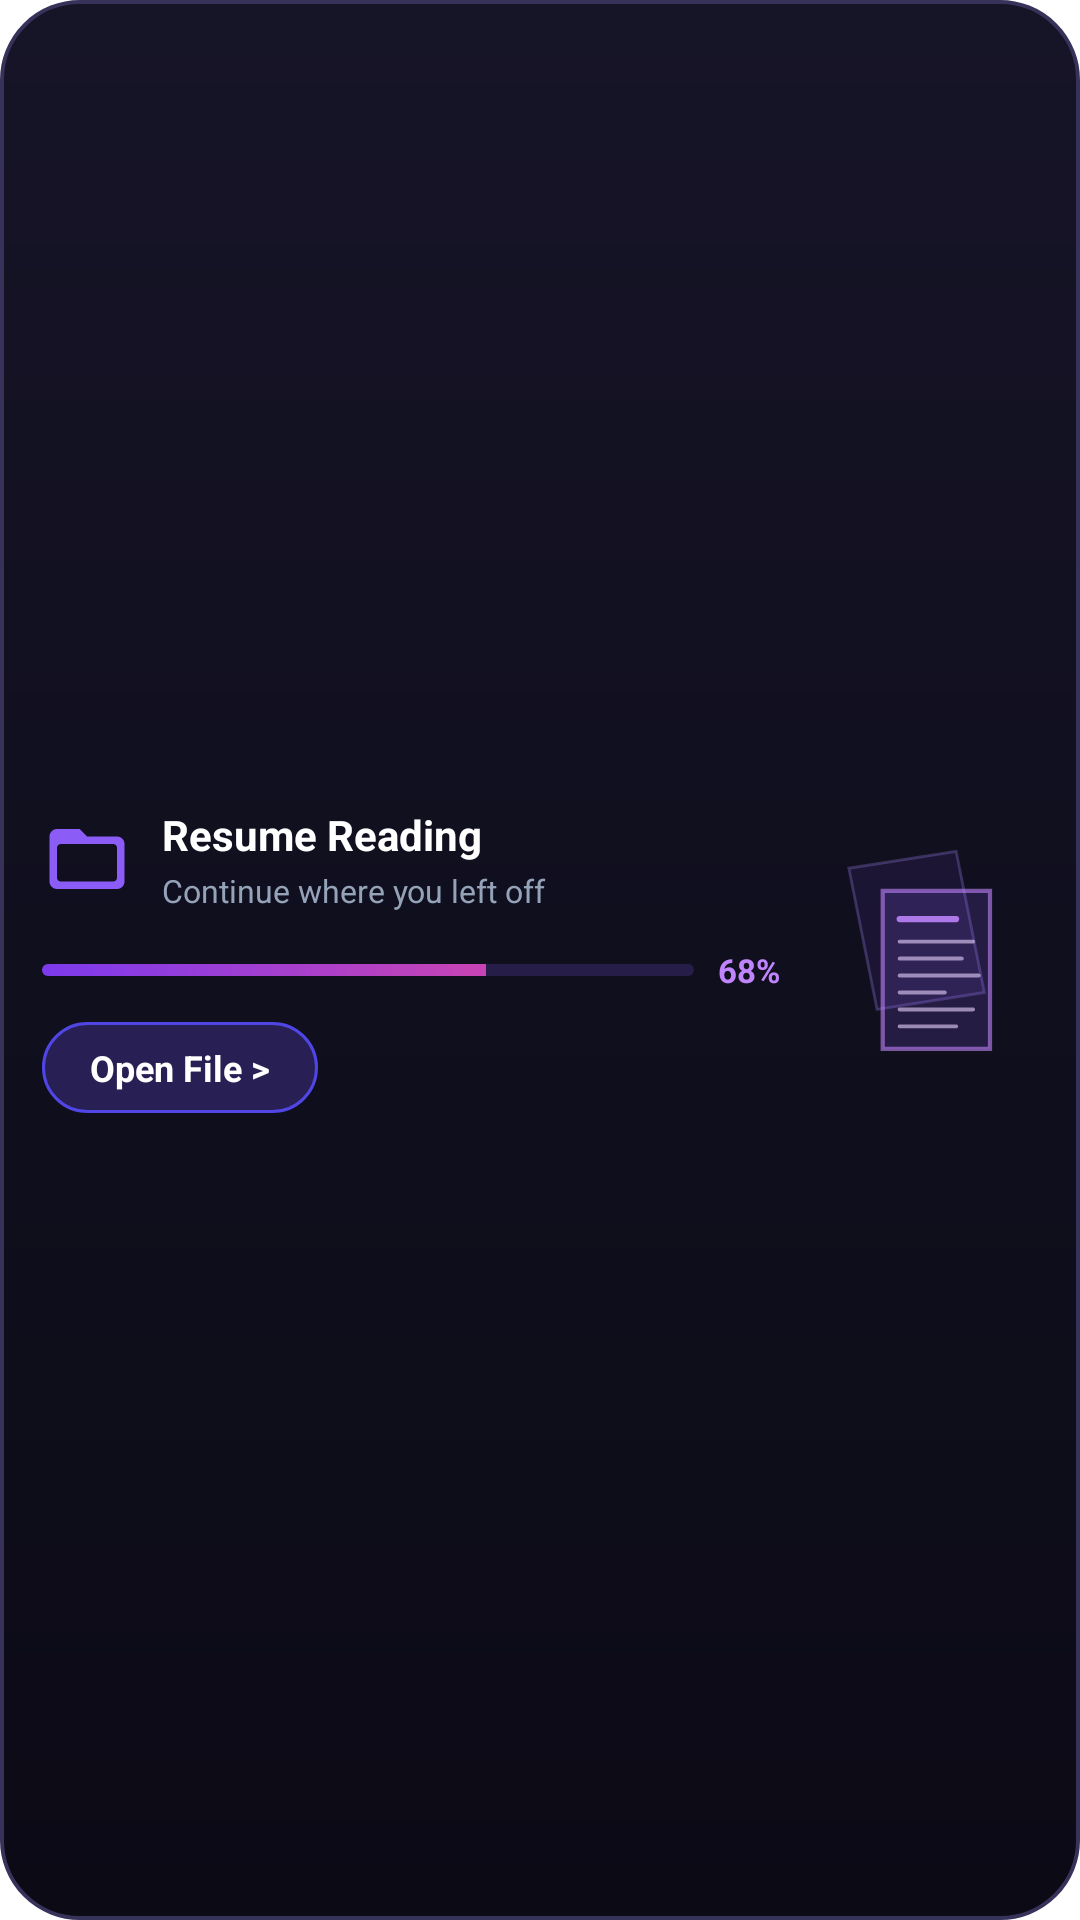

Named icons in this screenshot (1080x1920) and their centers, (x=x, y=y):
Folder: (x=87, y=859)
